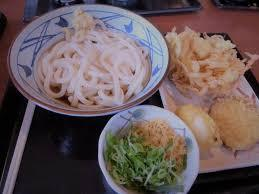bukkake: (13, 5, 162, 111)
kakiage: (166, 26, 251, 93)
satumaimo: (212, 98, 259, 152)
